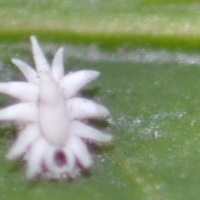insect: (0, 36, 111, 178)
